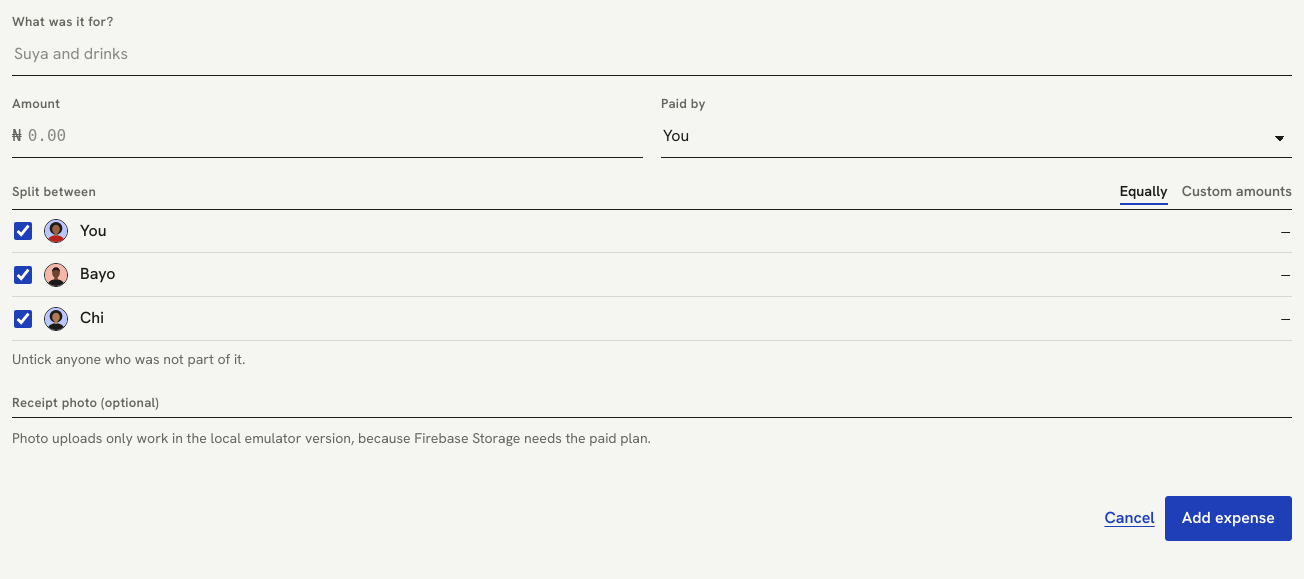
<ExpenseForm> custom amounts › starts from the equal shares, so the total already matches
Step 1. Type "Jollof lunch" into the field labelled "What was it for?" → (652, 55), box [12,34,1292,76]
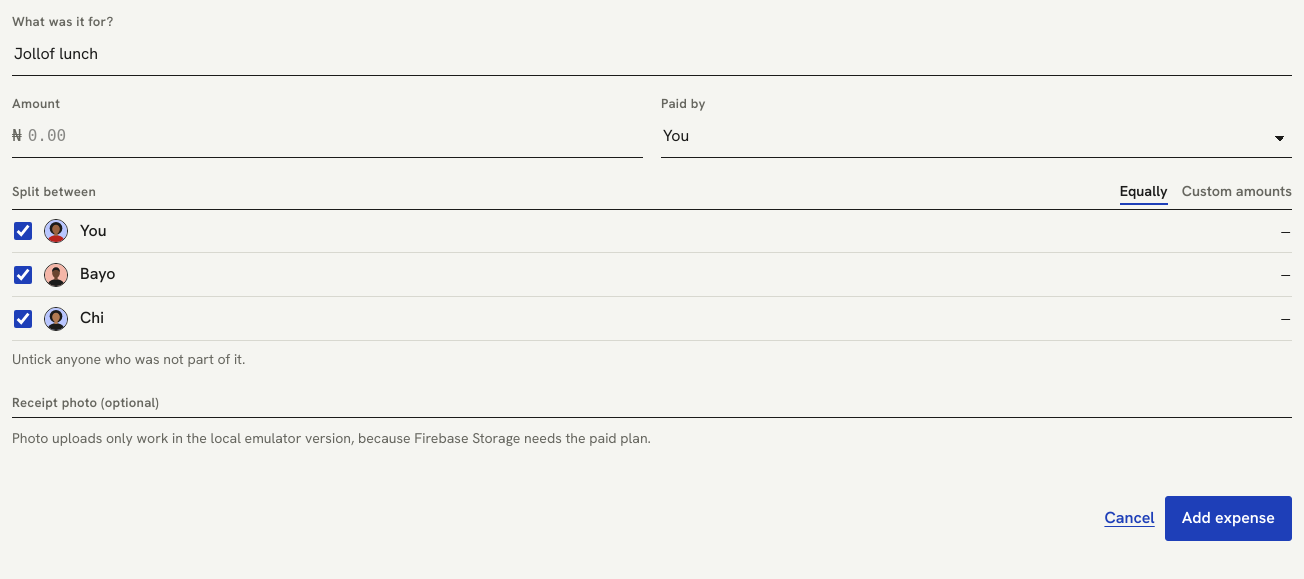
Step 2. Type "100" into the field labelled "Amount" → (334, 137), box [26,116,643,157]
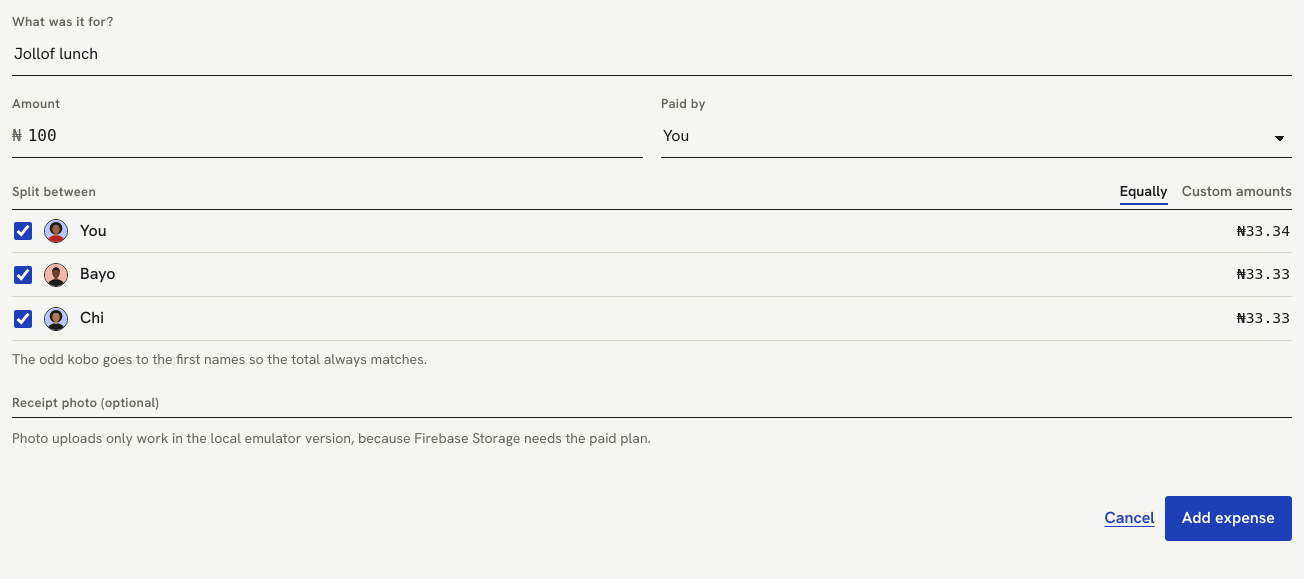
Step 3. Click the button "Custom amounts" → (1237, 192), box [1182,180,1292,205]
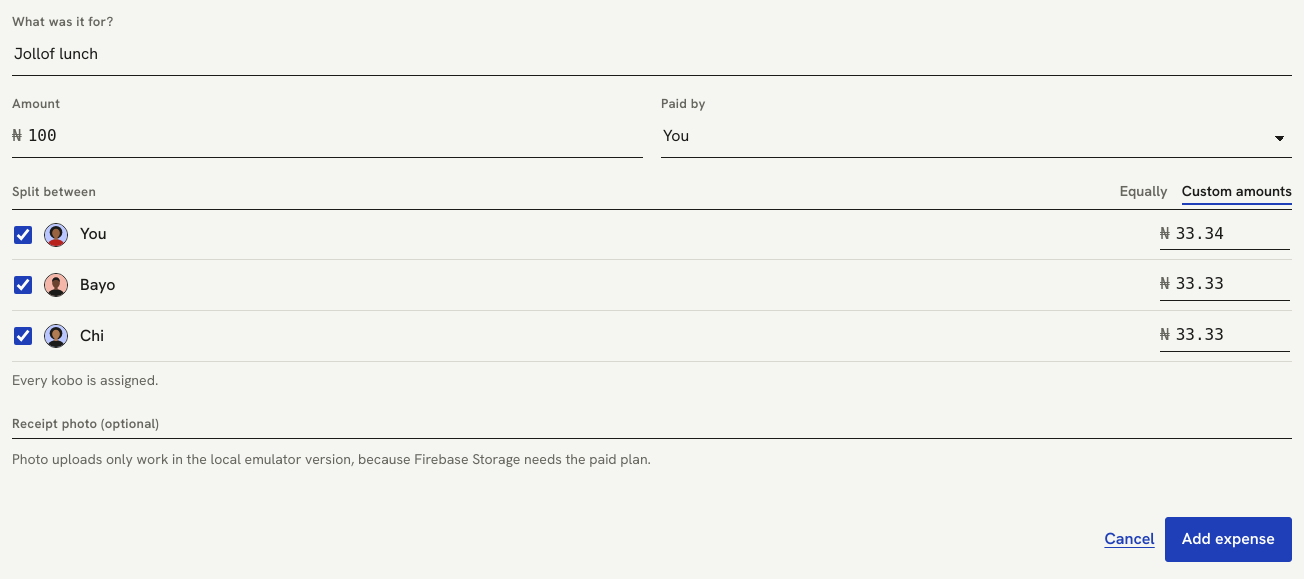
Check: the field named "Amount for You" holds "33.34", box [1174,219,1290,249]
Check: the text "Every kobo is assigned." is shown, box [12,371,158,389]
